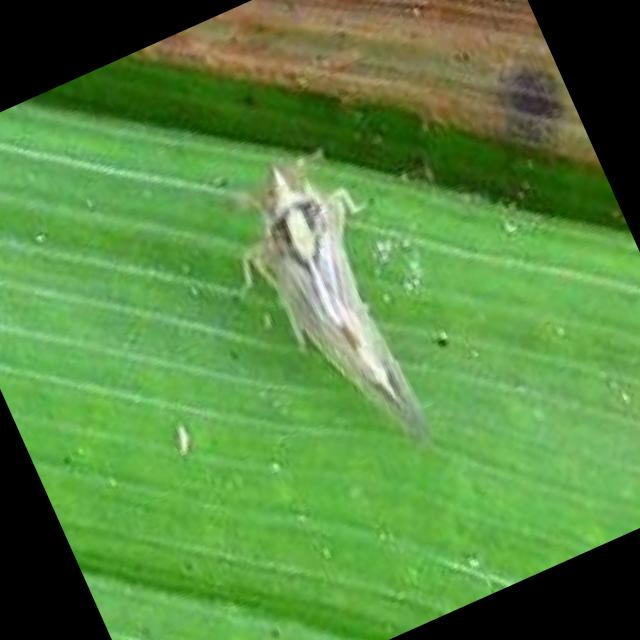brown-planthopper: (236, 153, 453, 472)
